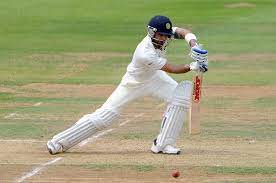bottom left: (185, 130, 194, 138)
bottom right: (195, 129, 203, 138)
top left: (188, 72, 198, 81)
top right: (198, 70, 206, 79)
